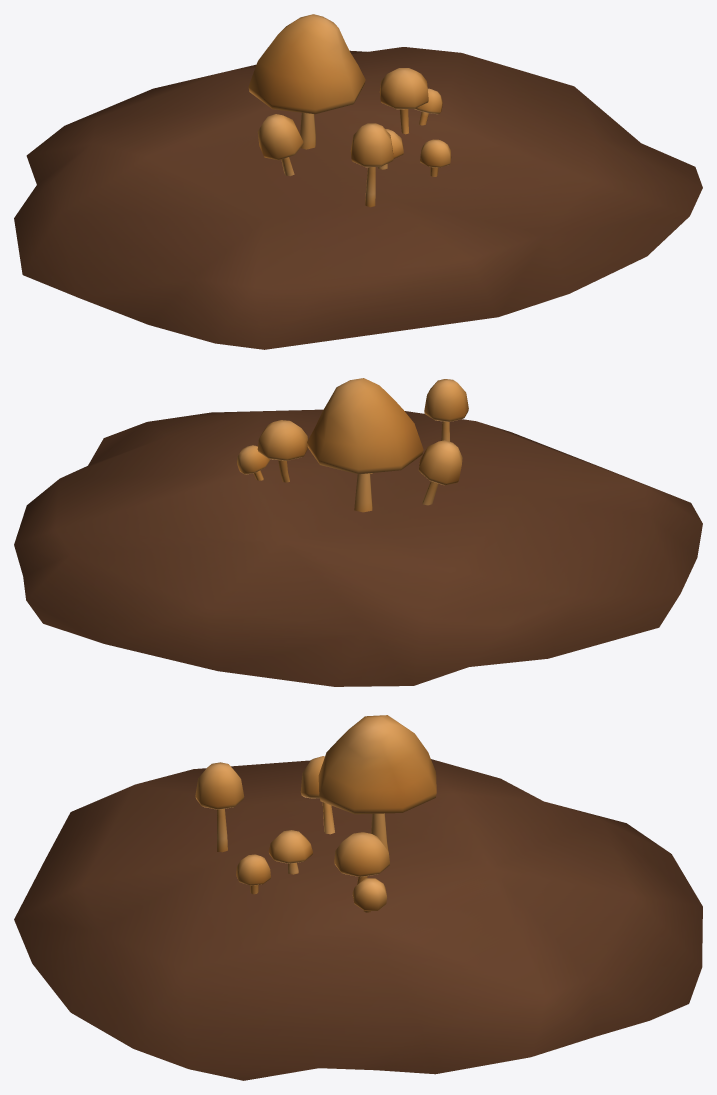
File: SM_PlantSoil_EnokiMushroom_Lv1.fbx
The picture shows the model from 3 angles, top to bottom: view 1: azimuth 30°, elevation 25°; view 2: azimuth 150°, elevation 25°; view 3: azimuth 270°, elevation 25°; orthographic projection. The views are drawn at different scales.
Visible parts, largest first — view 1: SM_PlantSoil_EnokiMushroom_Lv1; view 2: SM_PlantSoil_EnokiMushroom_Lv1; view 3: SM_PlantSoil_EnokiMushroom_Lv1.
Boxes of the visible parts, left/top/right/bottom form: SM_PlantSoil_EnokiMushroom_Lv1: left=14, top=14, right=702, bottom=349; SM_PlantSoil_EnokiMushroom_Lv1: left=14, top=378, right=702, bottom=686; SM_PlantSoil_EnokiMushroom_Lv1: left=14, top=715, right=702, bottom=1080.
Bounding box in the file's own units: 118 × 33.31 × 106.
